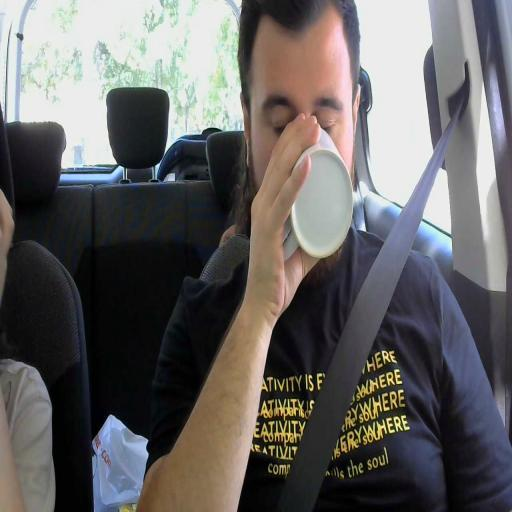Drinking: (244, 16, 362, 270)
